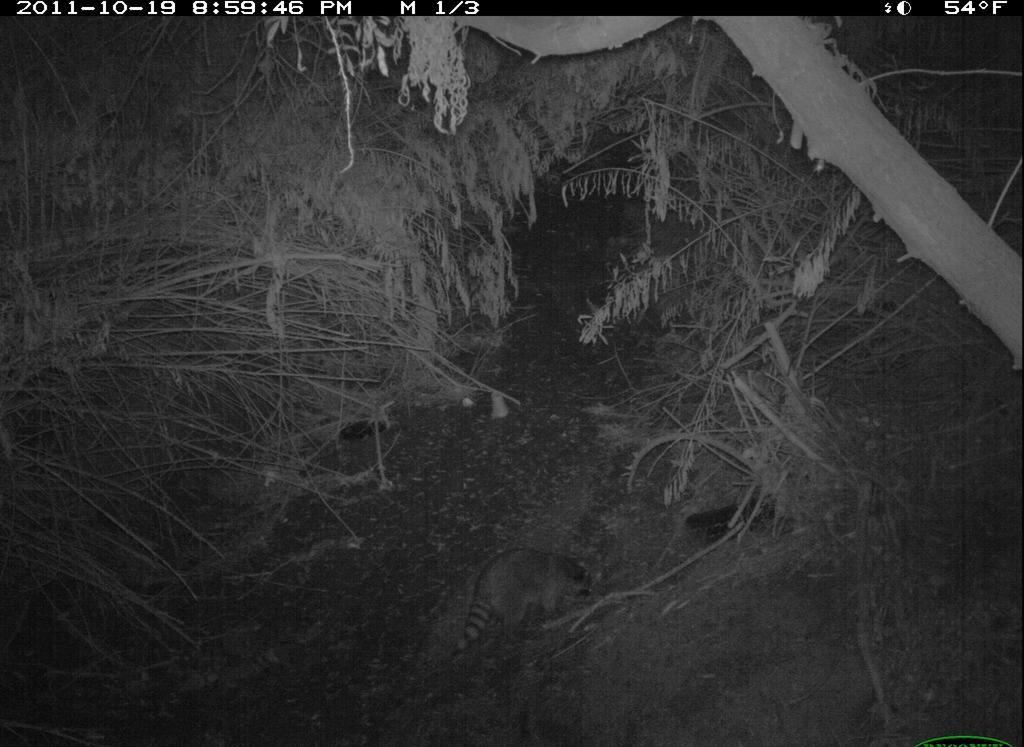raccoon: (442, 539, 600, 680)
